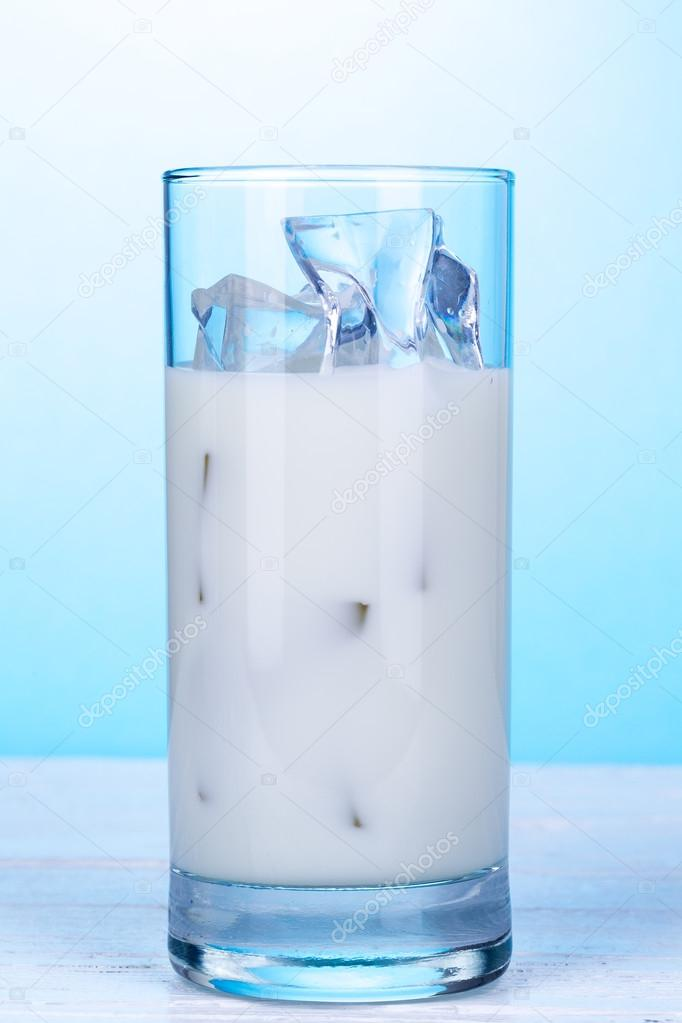glass of milk: (160, 347, 523, 1001)
